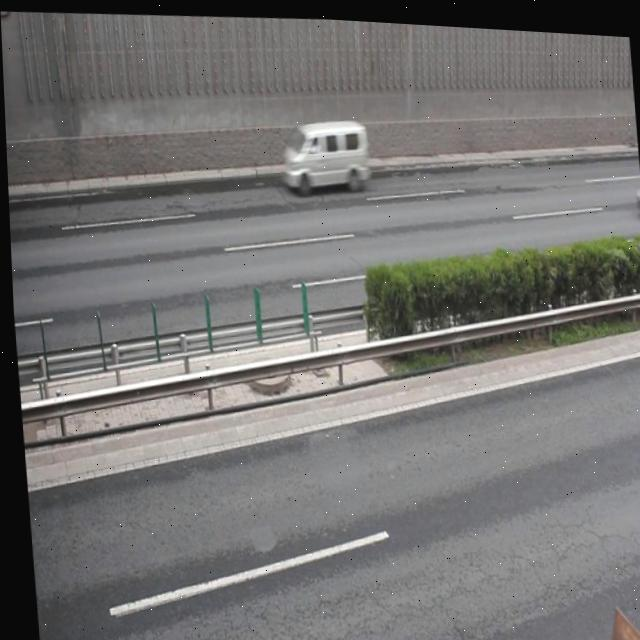truck: (277, 113, 370, 193)
